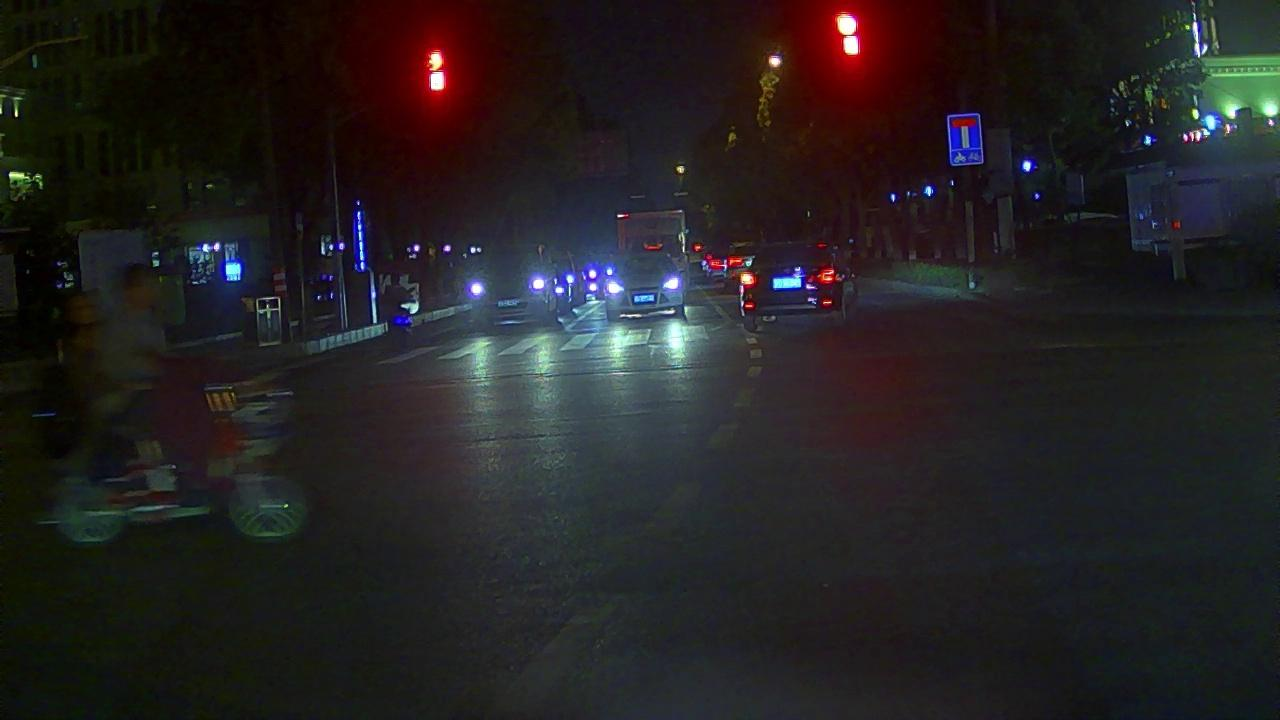traffic_light: (831, 4, 866, 64), (420, 46, 454, 96)
